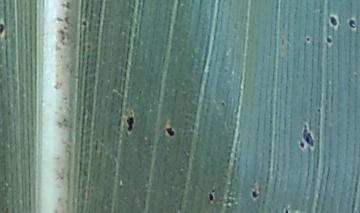tarspot: (296, 121, 317, 152), (118, 109, 139, 137), (325, 11, 341, 30), (162, 123, 179, 140), (1, 19, 11, 40), (204, 191, 218, 204), (347, 17, 359, 32), (249, 189, 262, 202), (323, 33, 335, 47), (79, 16, 89, 30), (218, 96, 227, 108), (313, 105, 323, 115), (280, 205, 292, 213), (303, 34, 312, 44), (136, 88, 146, 96)
